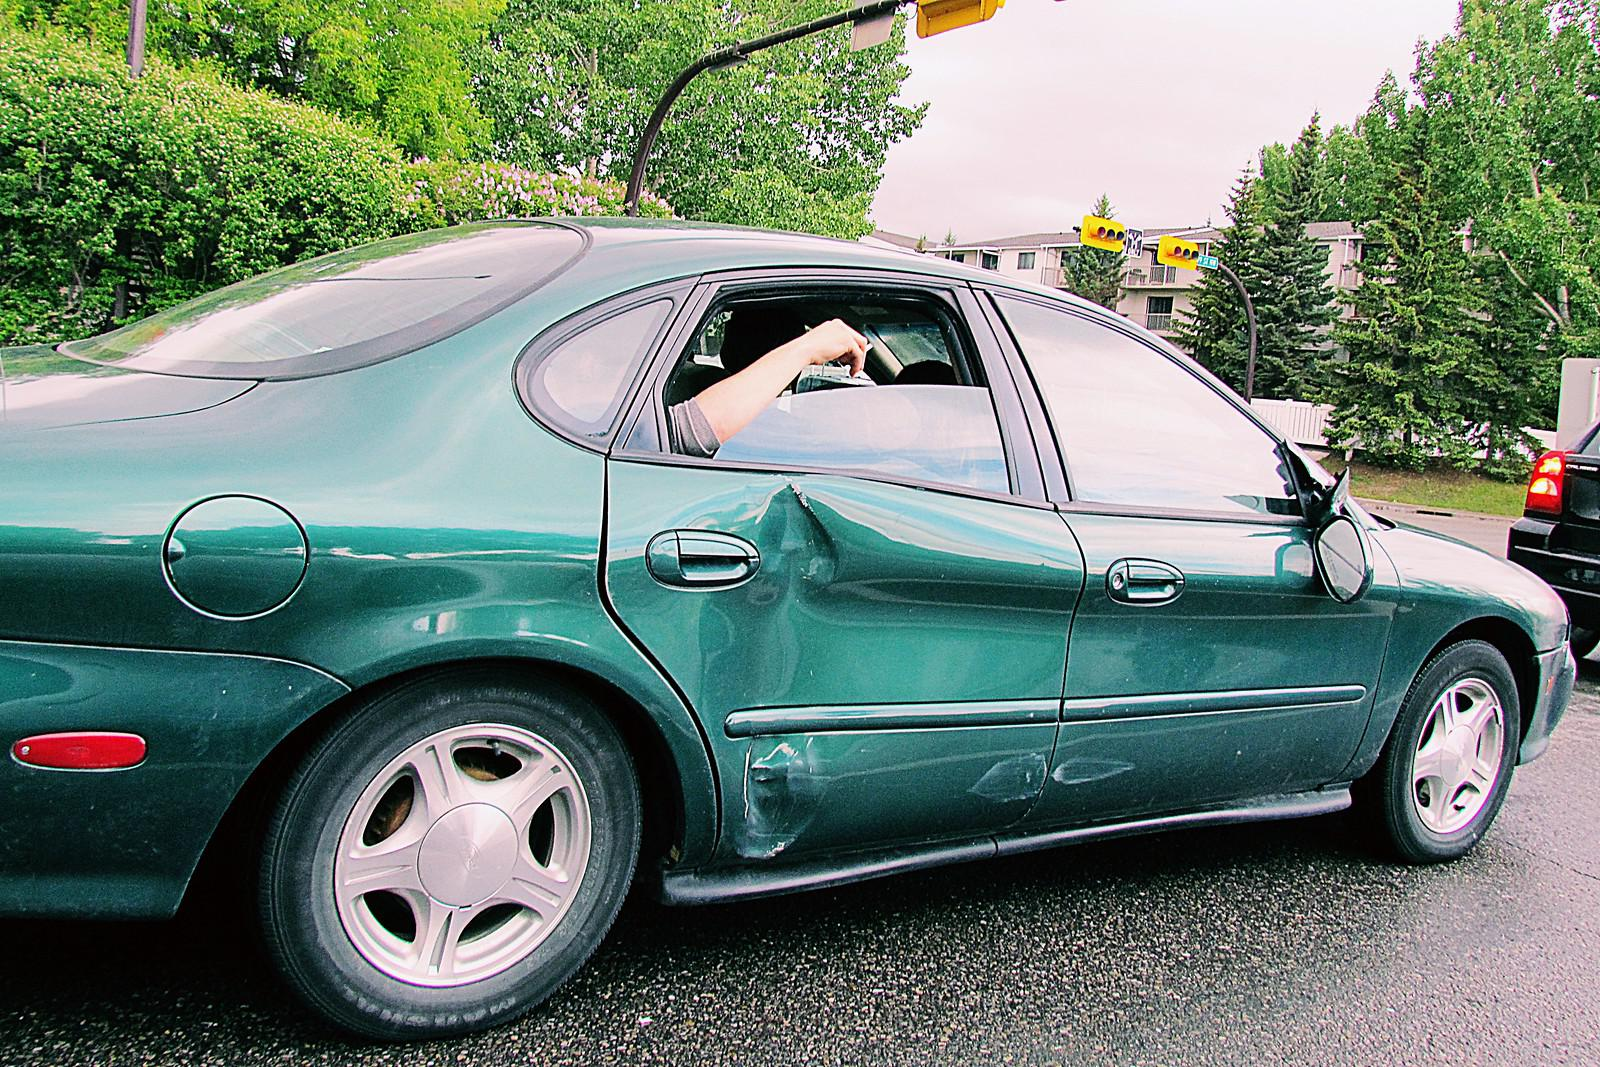doorouter-dent: (575, 283, 1027, 843)
